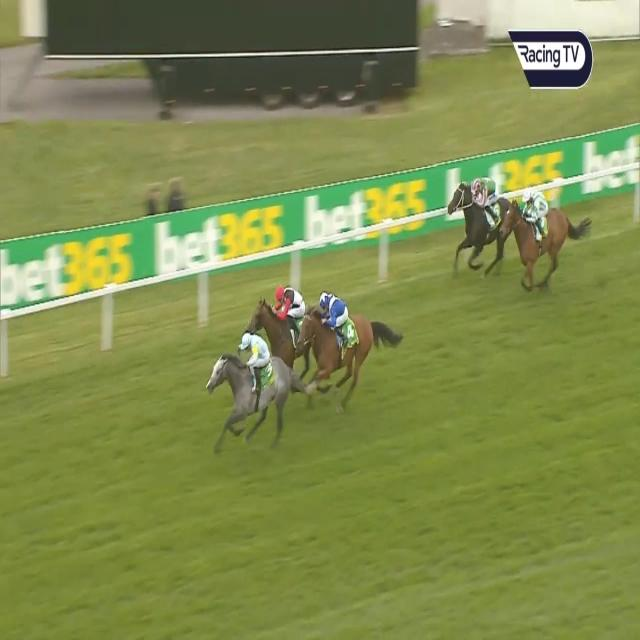horses-racing: (200, 330, 294, 448), (299, 285, 390, 395), (503, 183, 577, 292), (449, 169, 510, 275), (249, 284, 308, 360)
